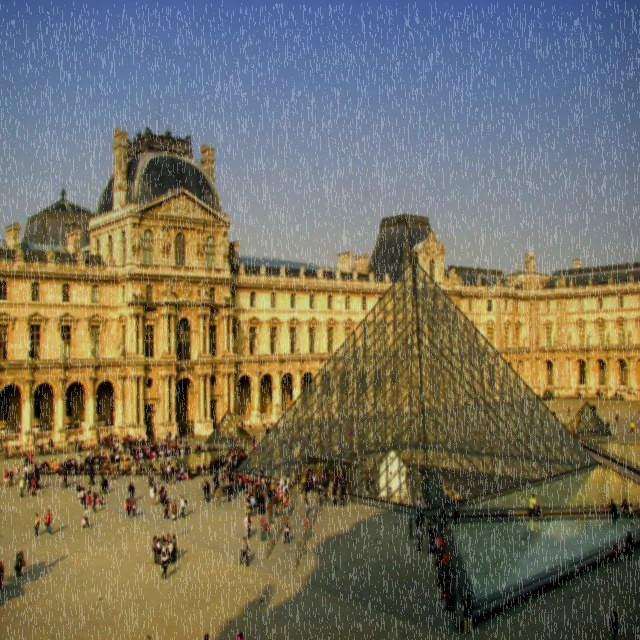pessoa: (86, 428, 203, 455), (296, 464, 349, 517), (119, 454, 202, 486), (249, 464, 297, 514), (40, 454, 119, 481), (202, 445, 250, 476), (434, 556, 457, 612), (75, 479, 108, 514), (220, 476, 250, 514), (18, 450, 41, 498), (608, 494, 640, 525), (427, 518, 451, 556), (156, 222, 173, 268), (459, 591, 476, 635), (129, 222, 145, 264), (160, 532, 178, 566), (194, 228, 208, 269), (218, 228, 231, 272), (238, 534, 252, 567), (414, 494, 426, 532), (12, 548, 27, 578), (362, 468, 377, 498), (148, 485, 168, 506), (258, 512, 270, 544), (608, 609, 619, 639), (160, 550, 170, 580), (243, 512, 253, 541), (415, 522, 424, 554), (282, 518, 292, 544), (34, 512, 44, 538), (82, 505, 92, 530), (626, 531, 634, 561), (178, 494, 188, 518), (72, 436, 84, 455), (528, 493, 536, 521), (152, 535, 159, 565), (44, 508, 52, 534), (213, 486, 223, 506), (611, 542, 620, 564), (212, 471, 220, 495), (204, 479, 212, 503), (162, 497, 170, 521), (439, 507, 447, 530), (130, 497, 138, 520), (128, 480, 136, 502), (0, 558, 5, 592), (125, 496, 132, 520), (171, 498, 178, 521), (2, 468, 10, 488), (155, 536, 161, 562), (13, 462, 21, 481), (250, 433, 258, 452), (268, 499, 274, 524), (573, 431, 583, 446), (408, 516, 414, 540), (262, 423, 273, 436), (202, 477, 208, 500), (233, 629, 246, 639), (46, 435, 55, 449), (200, 630, 212, 640), (614, 412, 622, 426), (590, 402, 598, 416), (550, 408, 558, 422), (303, 516, 310, 532), (228, 434, 238, 445), (612, 389, 623, 399), (453, 506, 459, 524), (566, 404, 573, 418), (8, 468, 13, 487), (630, 419, 636, 433), (604, 420, 610, 433), (60, 480, 68, 488)
